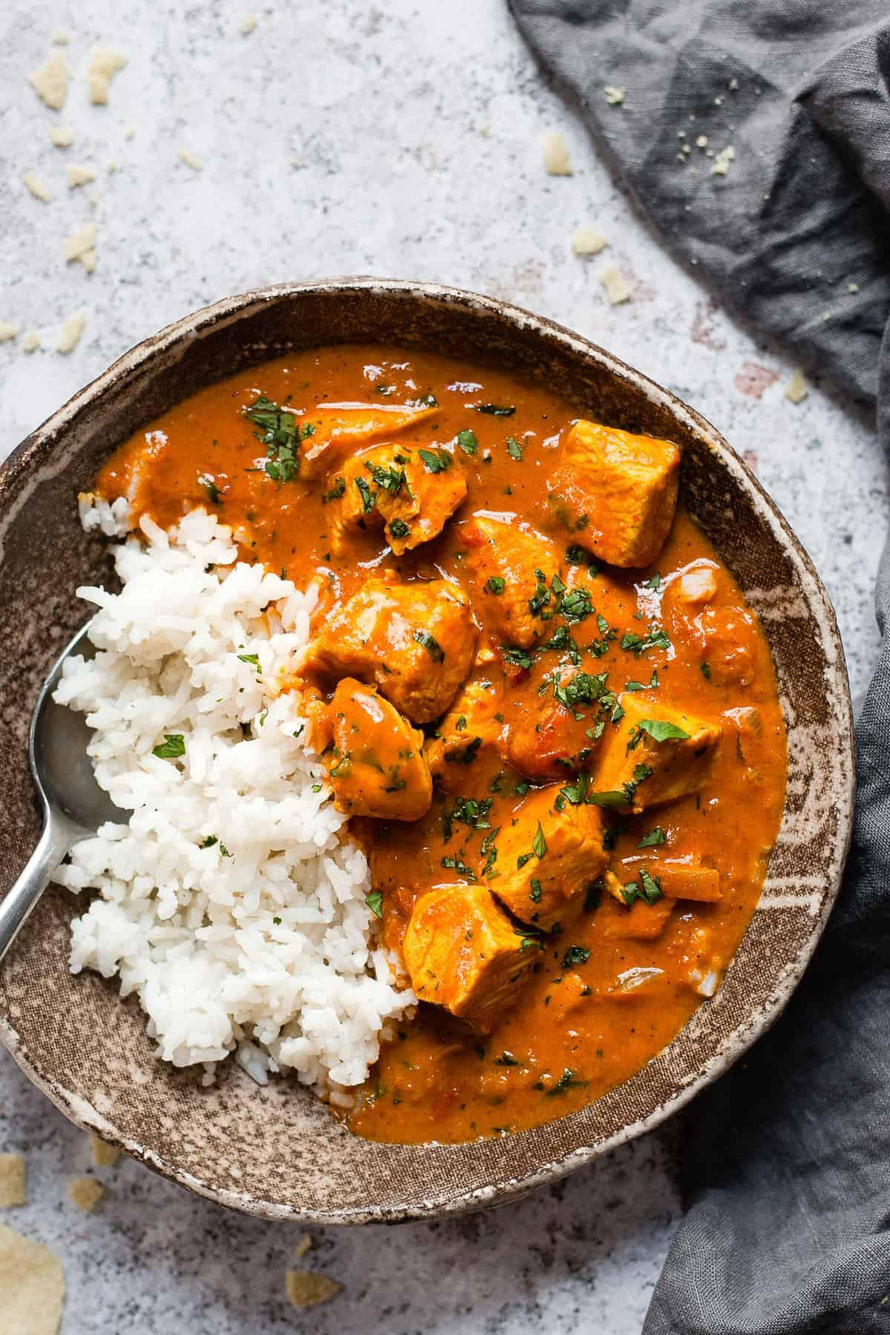chicken: (278, 336, 786, 1127)
rice: (48, 566, 337, 1064)
